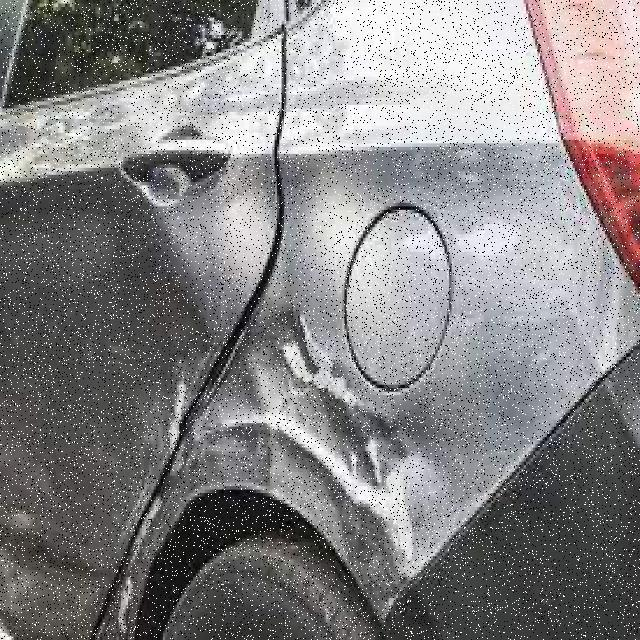doorouter-dent: (0, 77, 196, 511)
quaterpanel-dent: (266, 24, 516, 584)
